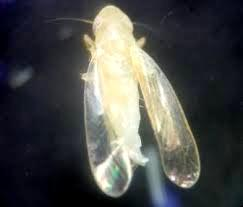Helopeltis-insect: (86, 6, 165, 175)
